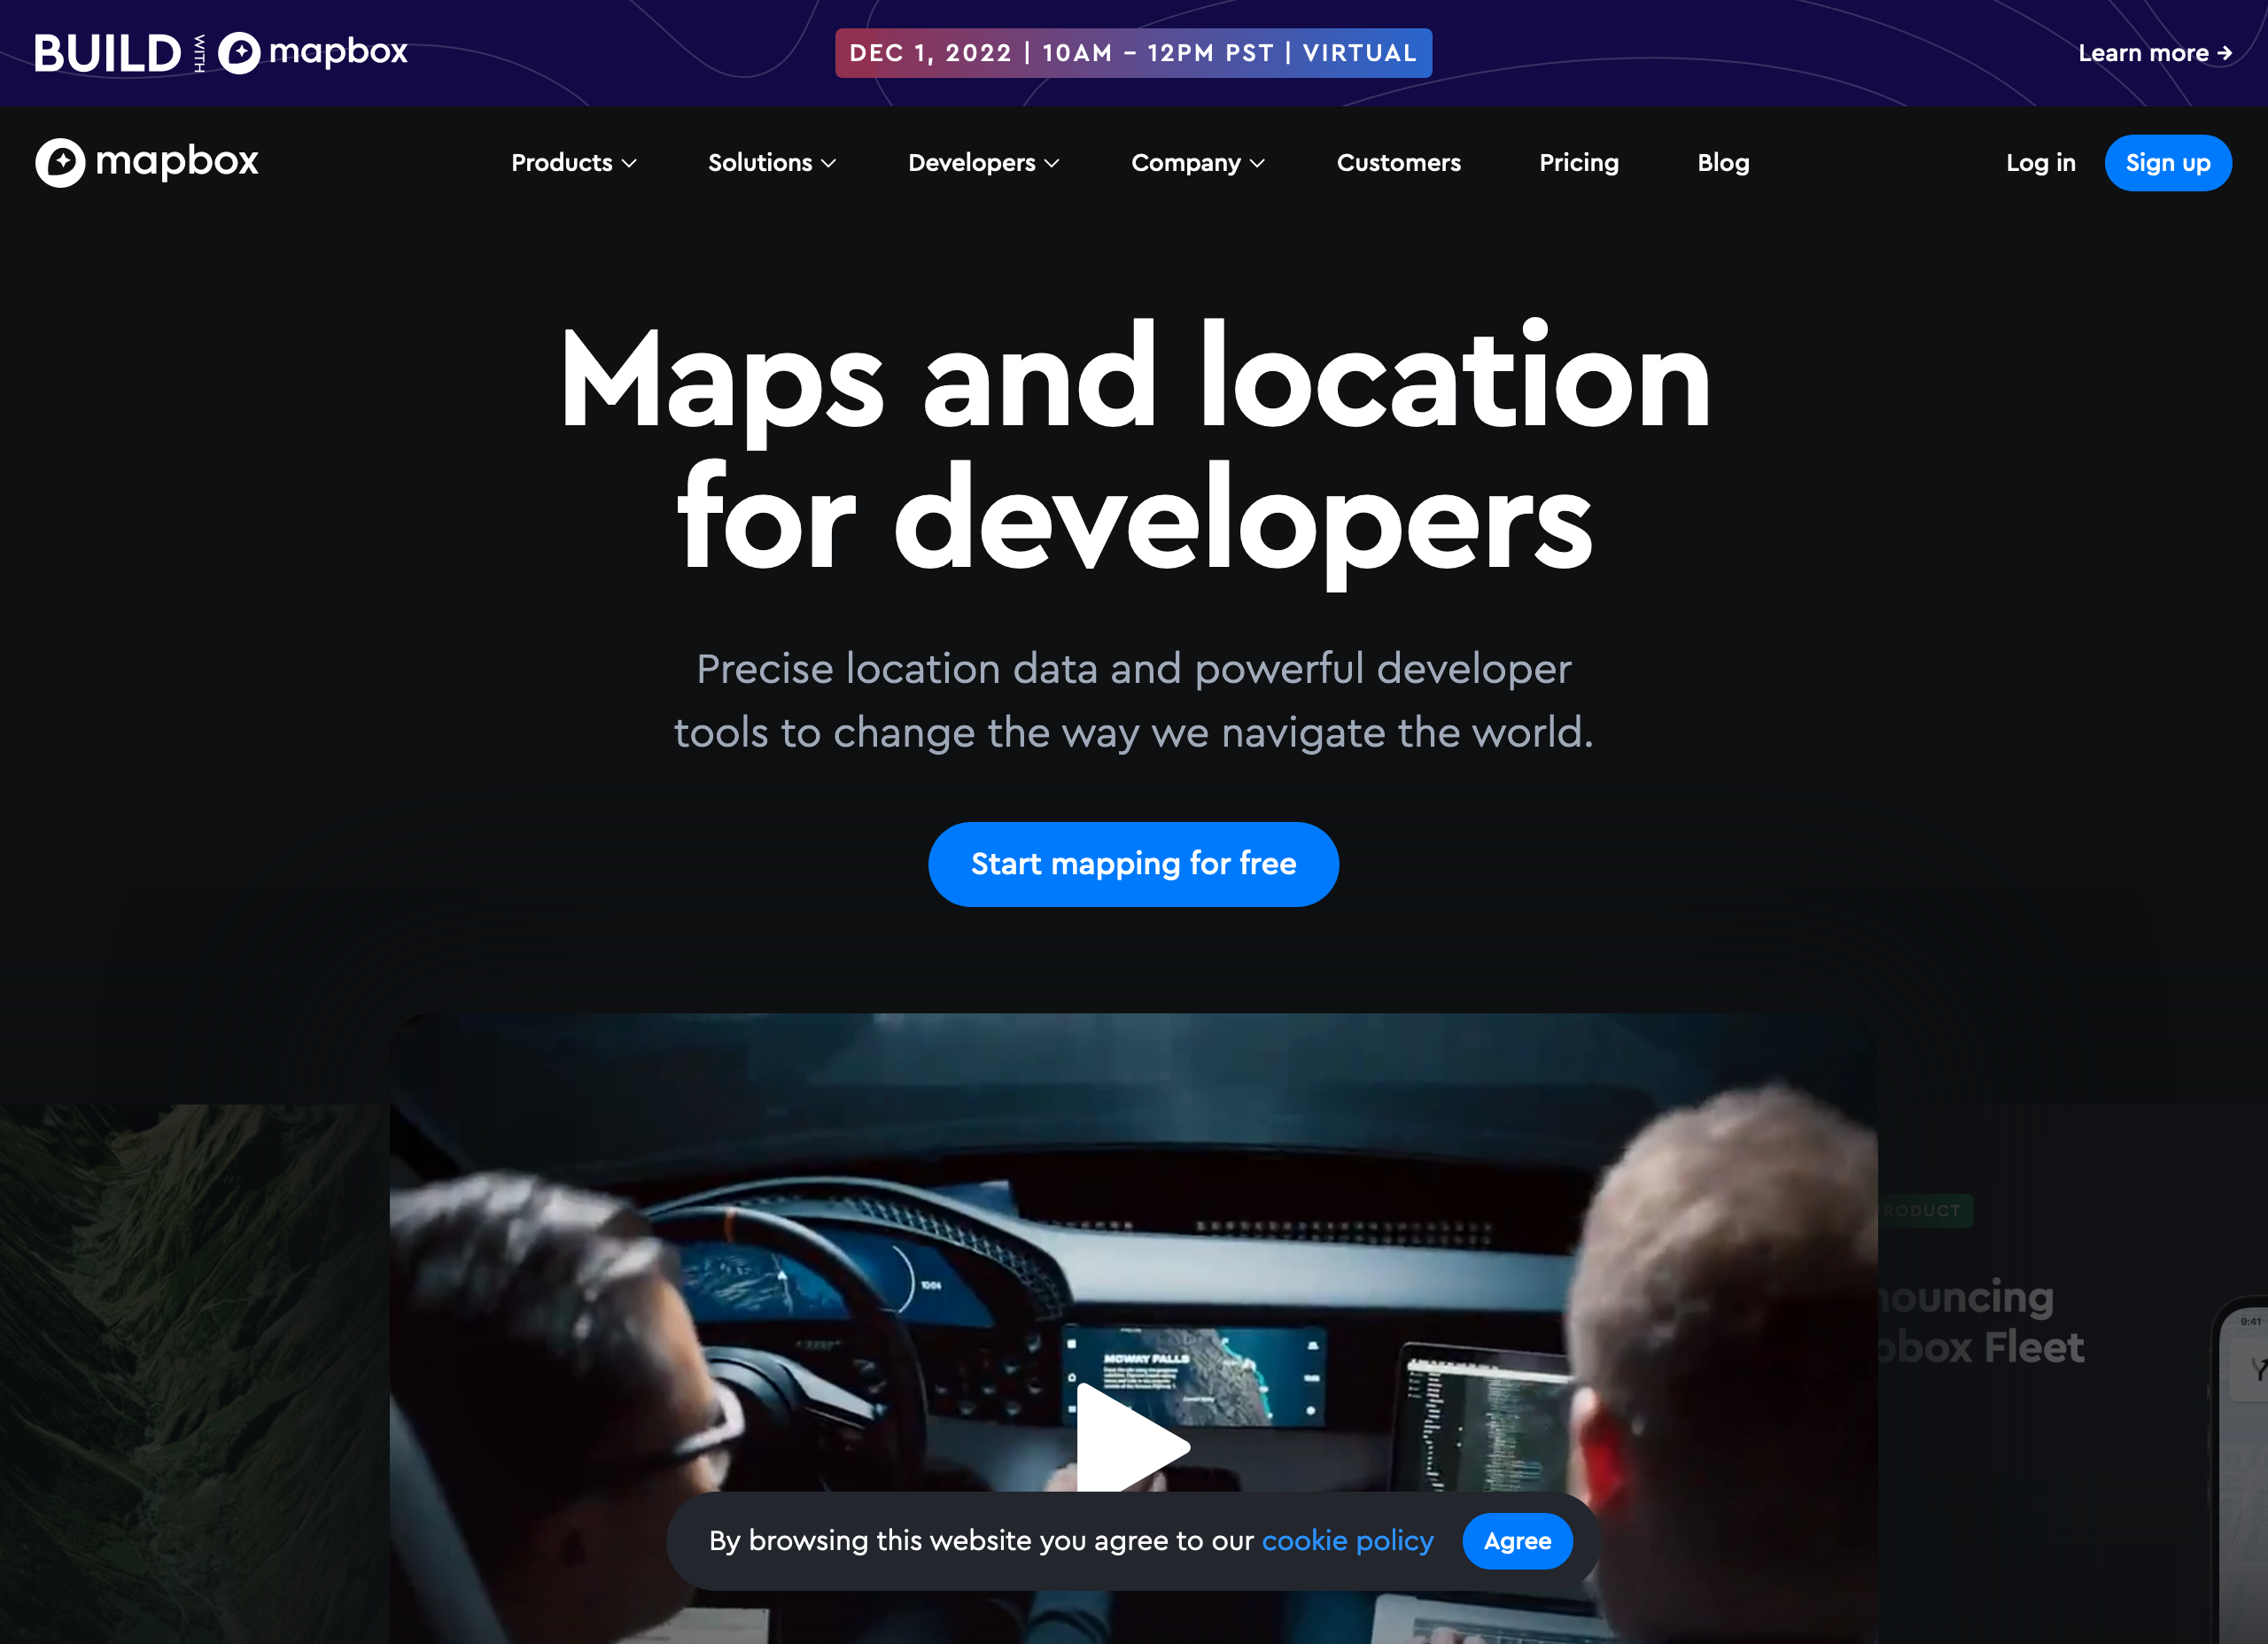Login: (1988, 137, 2088, 192)
